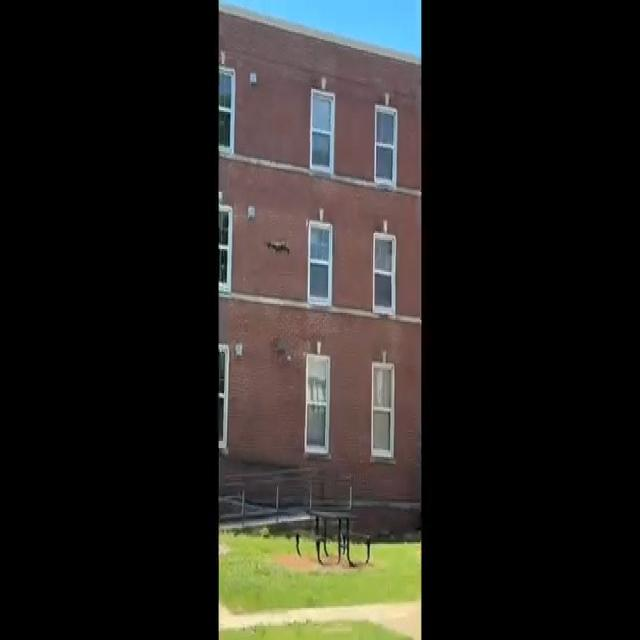drone: (261, 227, 294, 261)
